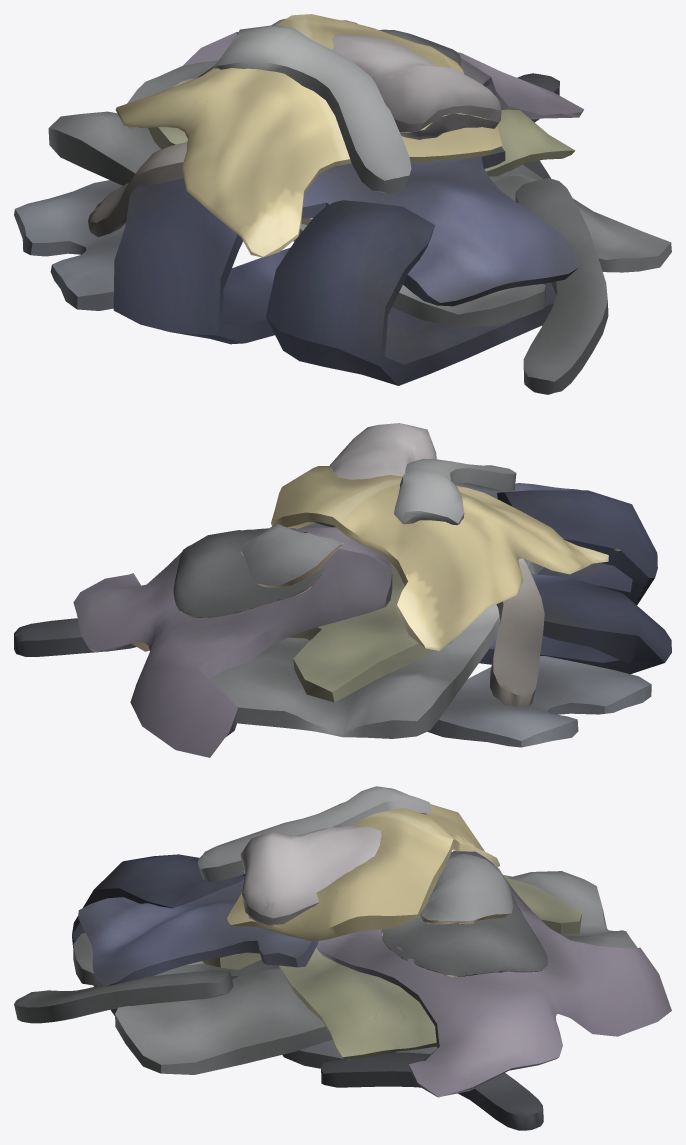
Rendered from PileOfClothes.fbx.
3 renders of one model, top to bottom at view 1: azimuth 30°, elevation 25°; view 2: azimuth 150°, elevation 25°; view 3: azimuth 270°, elevation 25°, orthographic. The views are drawn at different scales.
Parts seen in each view (by area): view 1: PileOfClothes; view 2: PileOfClothes; view 3: PileOfClothes.
Part boxes in pixels (x1,y1,x2,y2): PileOfClothes: (14, 14, 671, 394); PileOfClothes: (14, 423, 671, 757); PileOfClothes: (14, 786, 671, 1130).
Size of the model in its own units: 135 by 49.9 by 150.
